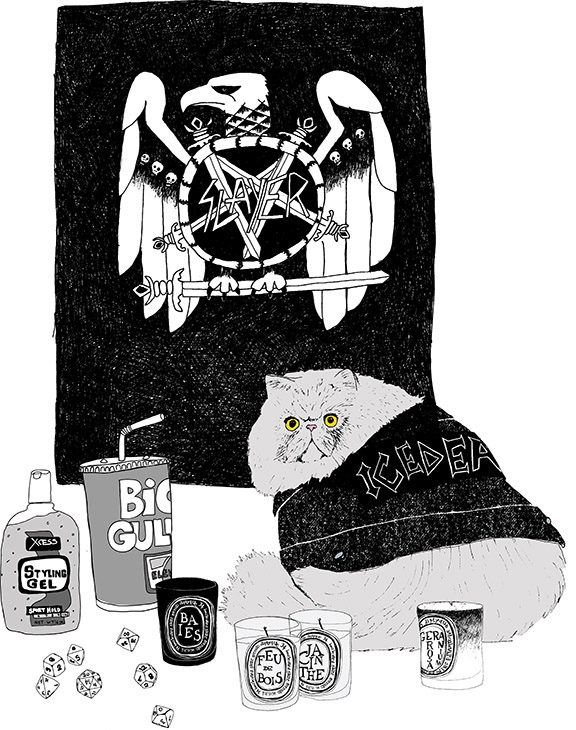cat: (230, 366, 576, 679)
